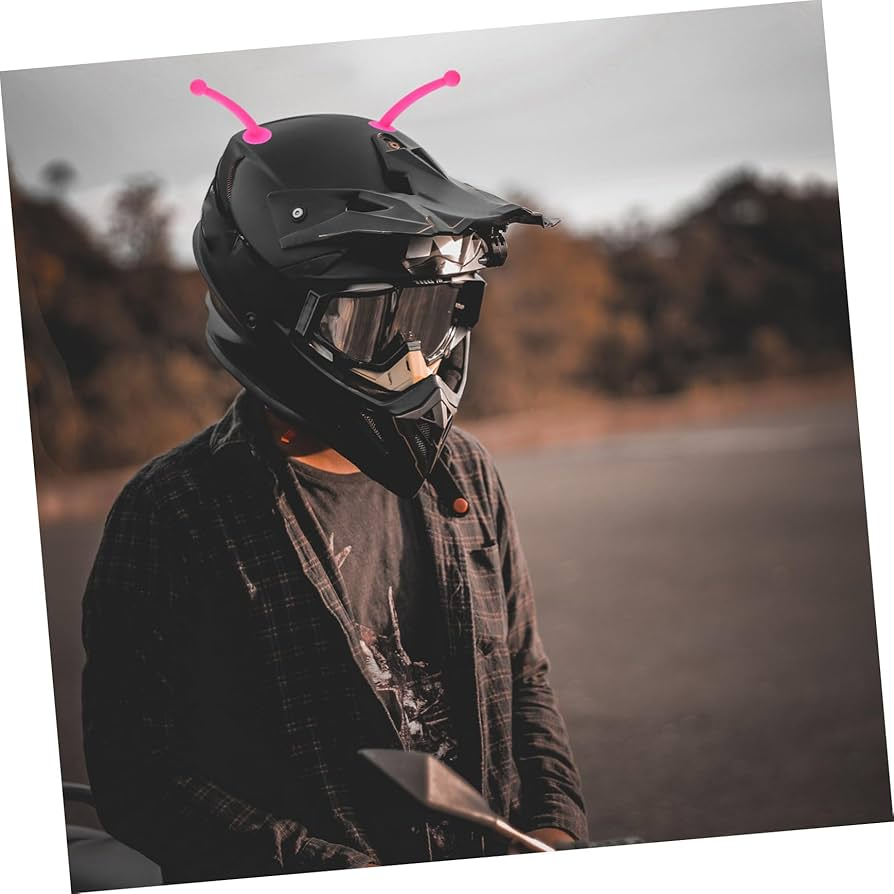helmets: (166, 86, 519, 497)
